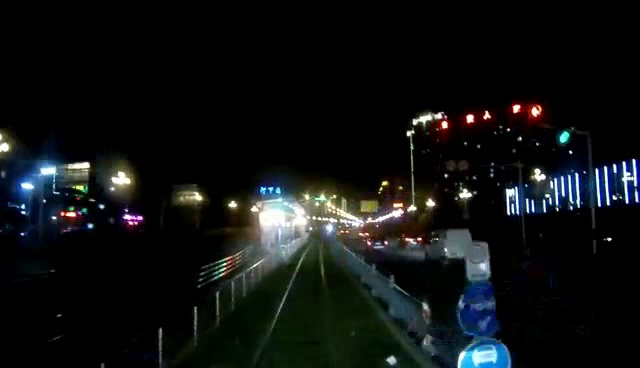car: (426, 228, 475, 265)
